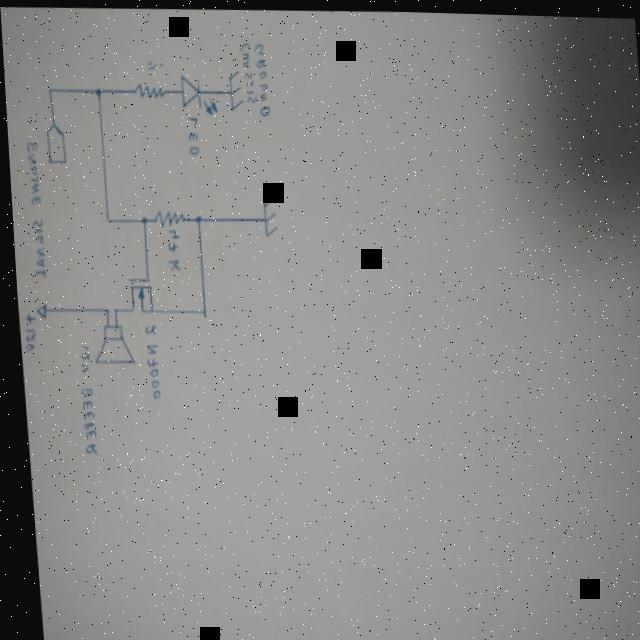diode: (178, 71, 218, 114)
ground: (257, 192, 276, 235), (226, 66, 245, 108)
junction: (135, 212, 146, 225), (92, 85, 102, 97), (190, 211, 200, 223), (195, 303, 204, 315), (100, 213, 109, 223), (45, 84, 53, 93), (98, 304, 106, 313), (108, 305, 114, 313)
resistor: (131, 78, 167, 98), (149, 206, 184, 226)
source: (31, 300, 45, 318)
terminal: (43, 119, 66, 165)
text: (21, 137, 47, 282), (139, 319, 157, 398), (74, 383, 93, 457), (253, 39, 269, 115), (237, 37, 255, 102), (160, 225, 179, 271), (183, 111, 200, 158), (17, 311, 34, 353), (71, 341, 88, 373), (145, 57, 164, 70)
transistor: (123, 273, 152, 315)
